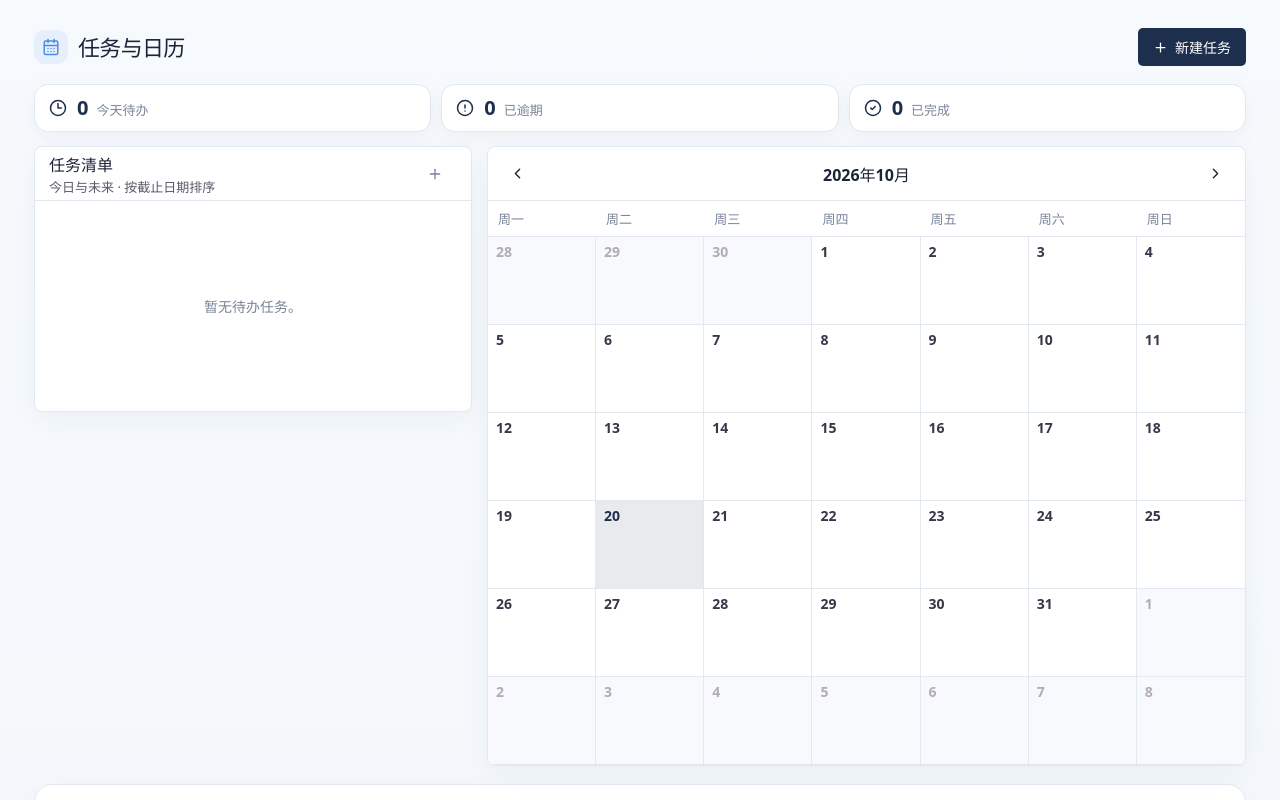
Test case: task saving › keeps the task form open and shows a save error
Click the button "新建任务": (1192, 47) [1138,28,1246,66]
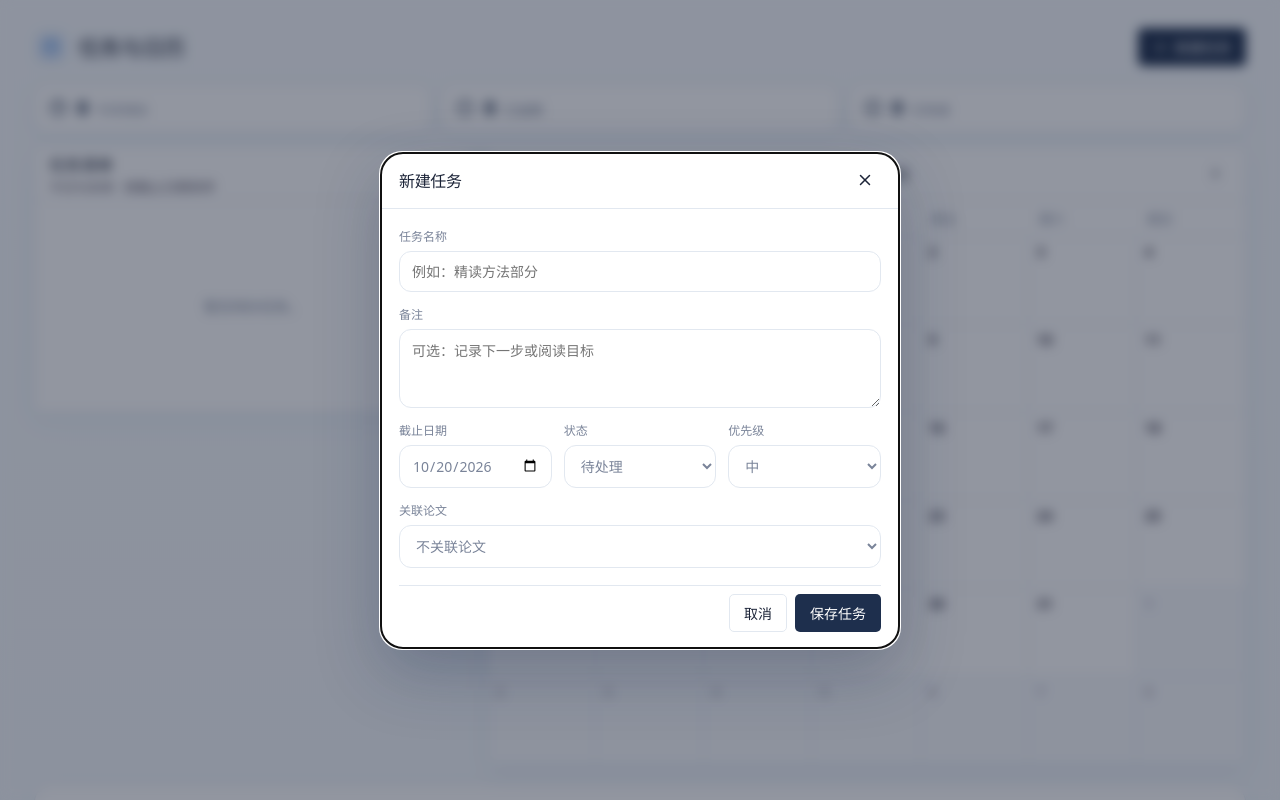
In the field labelled "任务名称": (640, 271) [399,250,881,292], type "精读方法部分"
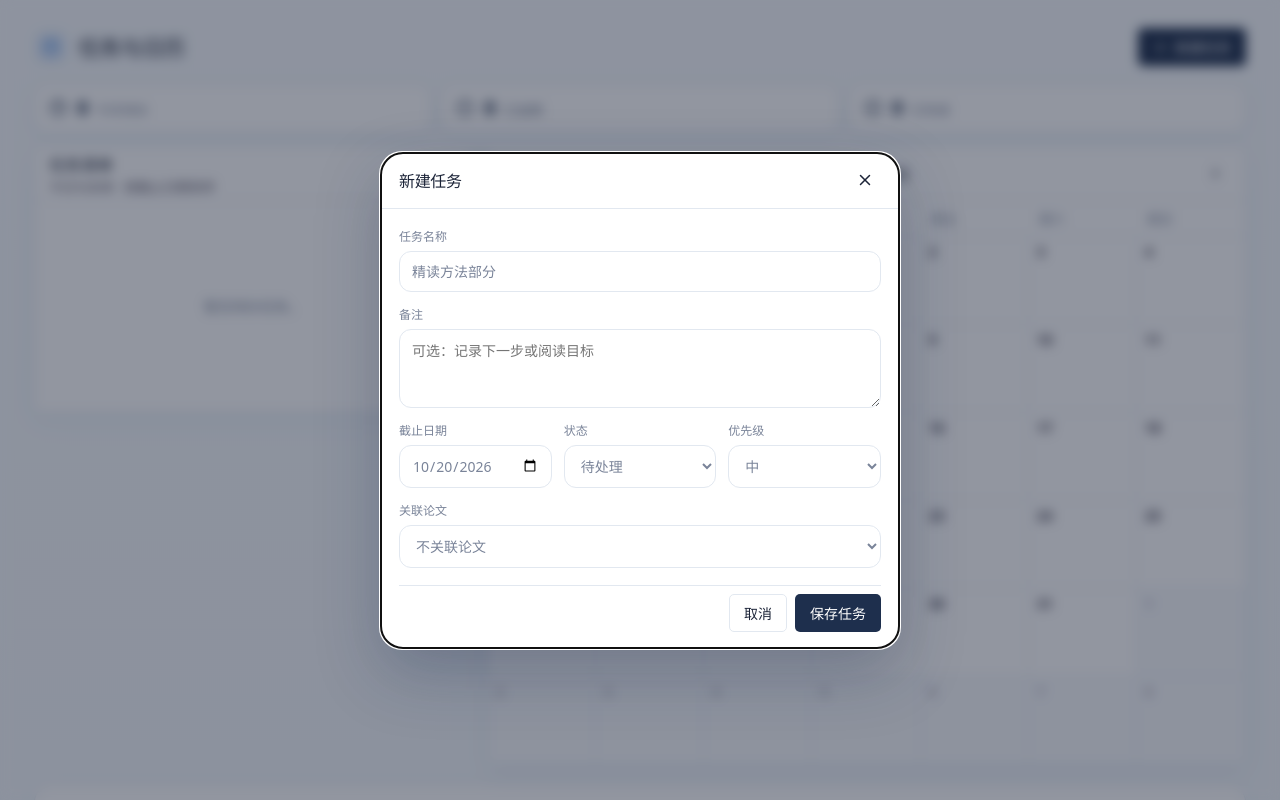
Click the button "保存任务": (838, 612) [795,594,881,632]
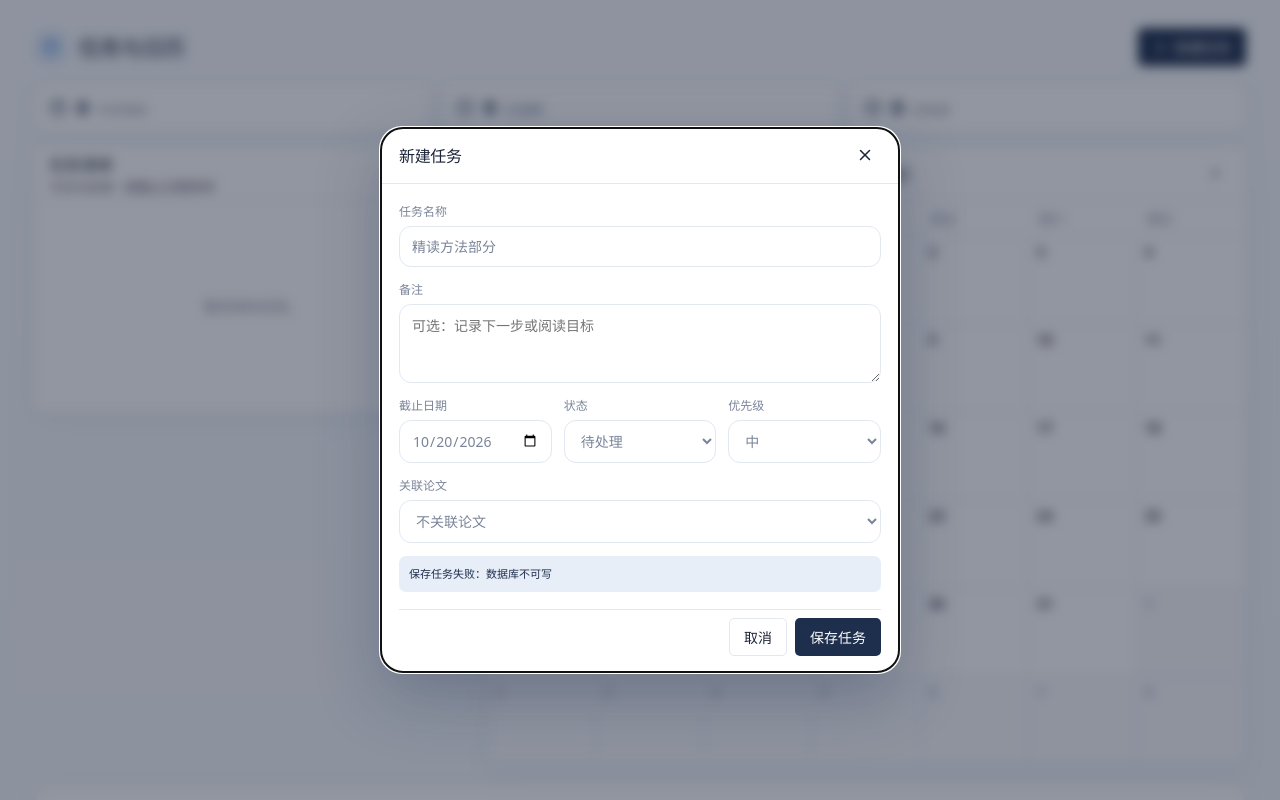
Expected: the message reads "保存任务失败：数据库不可写", [409,566,552,581]
